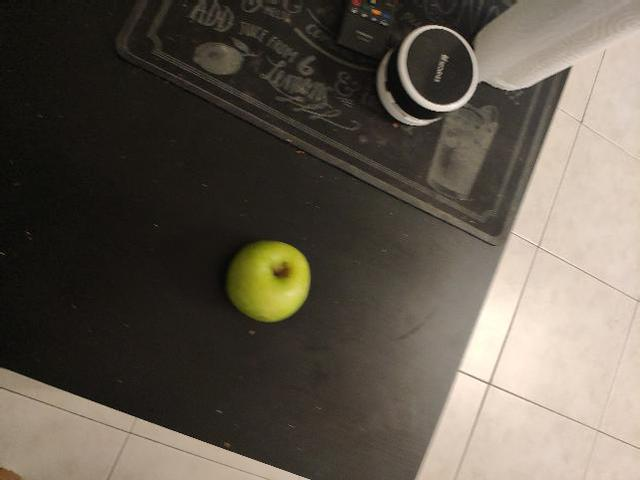apple: (386, 309, 489, 441)
